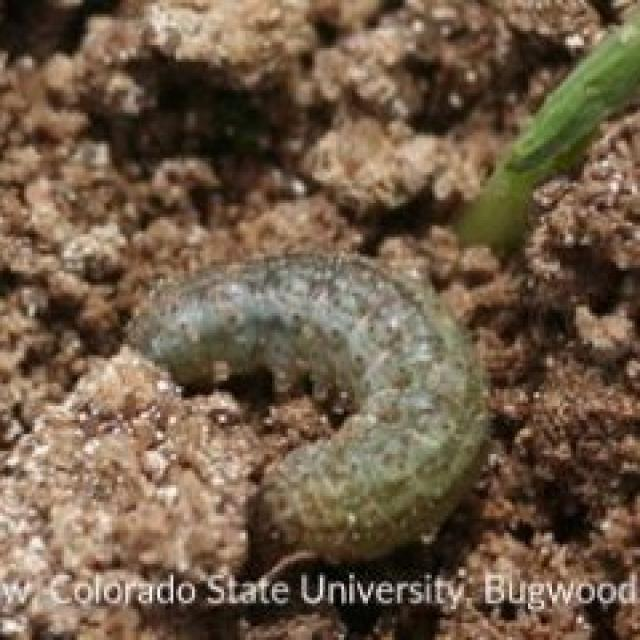Cutworm: (130, 251, 498, 569)
